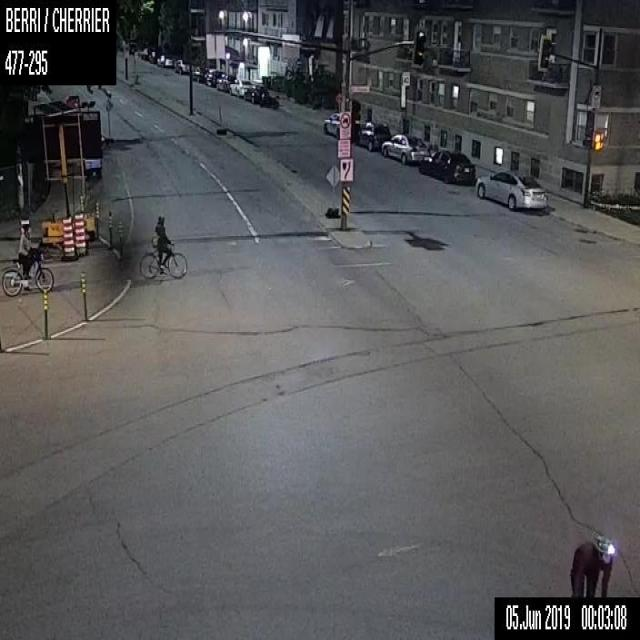construction: (325, 163, 338, 217), (214, 93, 227, 135), (62, 216, 74, 257), (74, 213, 86, 254), (79, 271, 87, 320), (104, 99, 112, 142), (107, 208, 114, 249), (42, 288, 47, 339), (117, 220, 123, 259)
cyclist: (1, 222, 53, 298), (568, 530, 618, 598), (139, 215, 187, 280)
vehicle: (476, 170, 546, 208), (418, 150, 475, 182), (381, 133, 426, 163), (354, 120, 391, 150), (322, 111, 340, 138), (244, 84, 267, 104), (260, 90, 280, 110), (229, 78, 252, 95), (204, 69, 225, 84), (216, 74, 234, 90), (191, 66, 204, 81), (175, 58, 188, 72), (140, 47, 152, 59), (157, 57, 172, 65), (148, 51, 158, 62)
